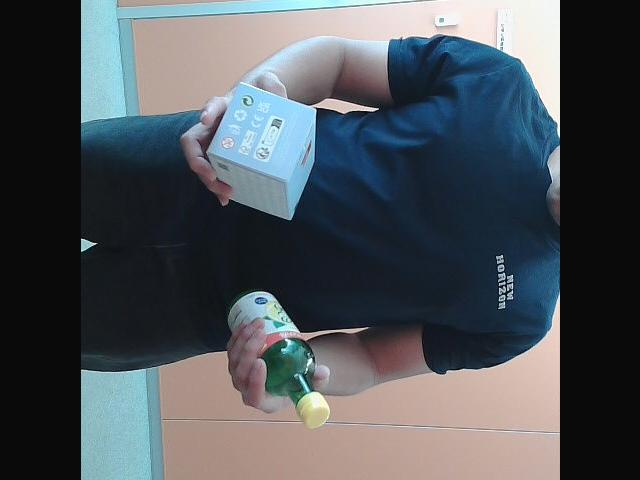Blind_box: (203, 80, 321, 221)
Lemon_sapporo: (222, 278, 332, 426)
